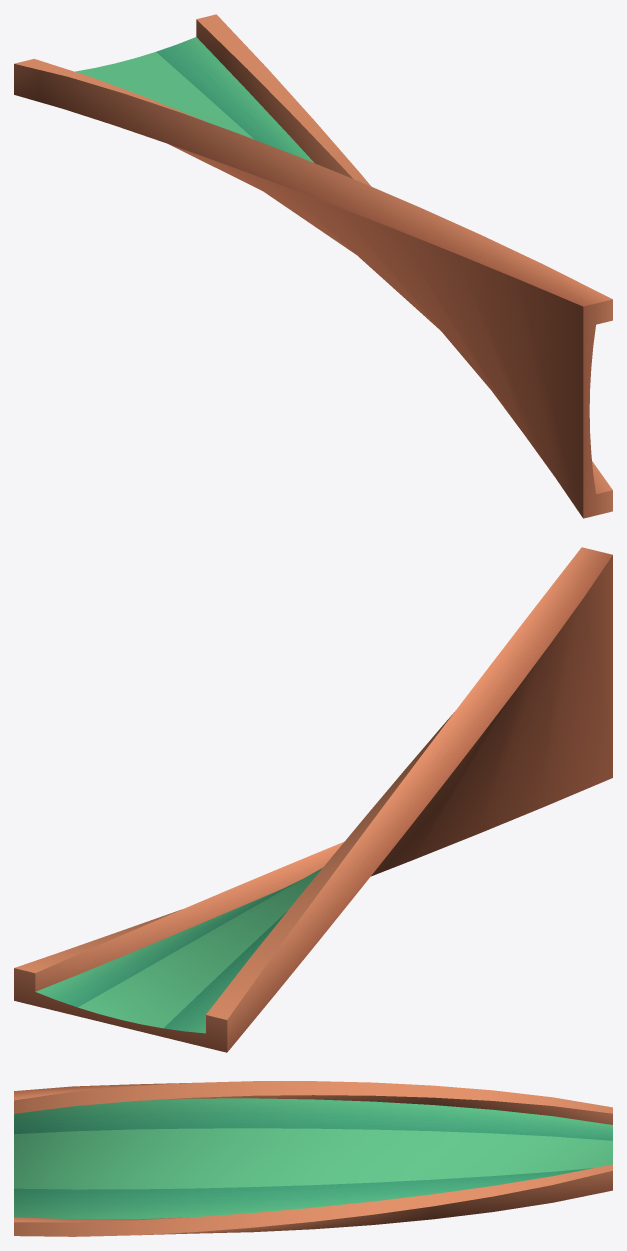
The model's file is spline-concave-straight-skew-left-side.glb.
3 views of the same model, one above another, from view 1: azimuth 30°, elevation 25°; view 2: azimuth 150°, elevation 25°; view 3: azimuth 270°, elevation 25° (orthographic). The views are drawn at different scales.
Parts seen in each view (by area): view 1: spline-concave-straight-skew-left-side; view 2: spline-concave-straight-skew-left-side; view 3: spline-concave-straight-skew-left-side.
Part boxes in pixels (bbox=[...]): spline-concave-straight-skew-left-side: bbox=[14, 14, 612, 518]; spline-concave-straight-skew-left-side: bbox=[14, 547, 612, 1052]; spline-concave-straight-skew-left-side: bbox=[14, 1081, 612, 1236].
Bounding box in the file's own units: 1.02 × 1.02 × 4.
Materials: 1 (1 with a texture image).
